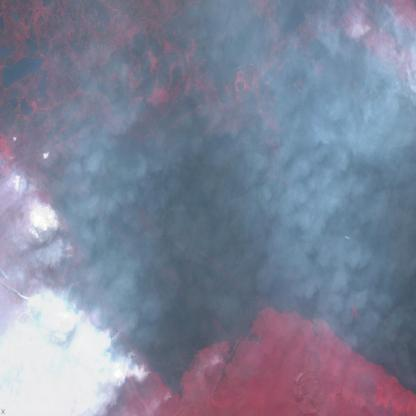fire: (8, 166, 156, 383)
